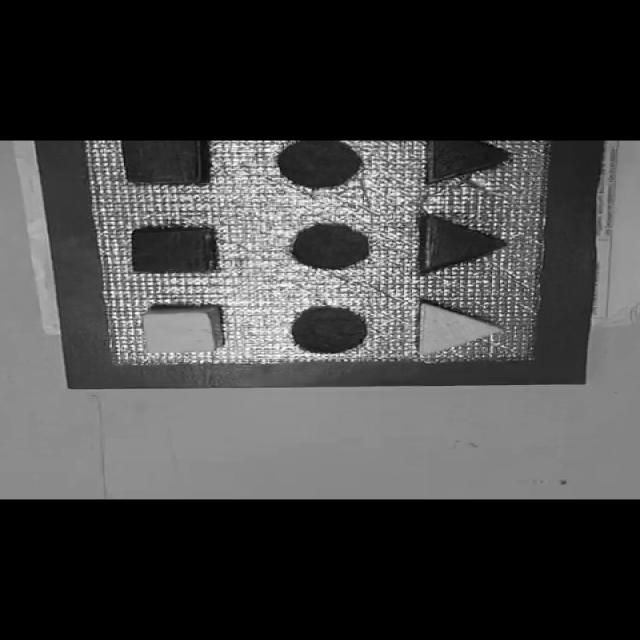bcube: (120, 142, 208, 185)
btriangle: (431, 139, 512, 183)
mtcircle: (276, 140, 362, 188), (290, 222, 372, 270), (290, 306, 370, 353)
rcube: (129, 227, 217, 274)
rtriangle: (421, 214, 512, 272)
wb: (85, 142, 556, 368)
ycube: (139, 303, 225, 355)
ytriangle: (417, 300, 506, 356)
